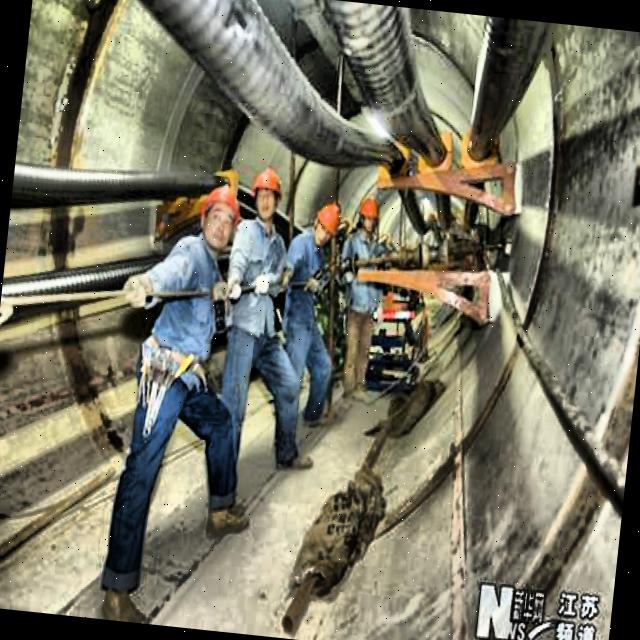helmet: (198, 176, 242, 244), (248, 163, 286, 224), (308, 198, 344, 250), (358, 194, 383, 233)
